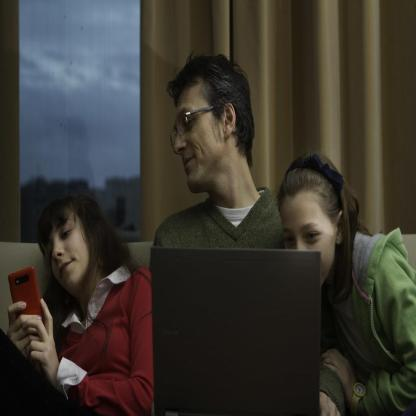board: (155, 225, 318, 414)
